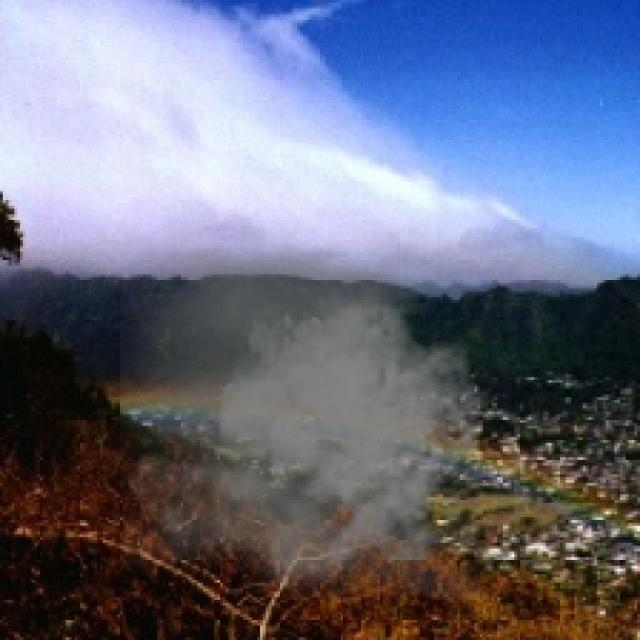Smoke: (120, 245, 492, 600)
